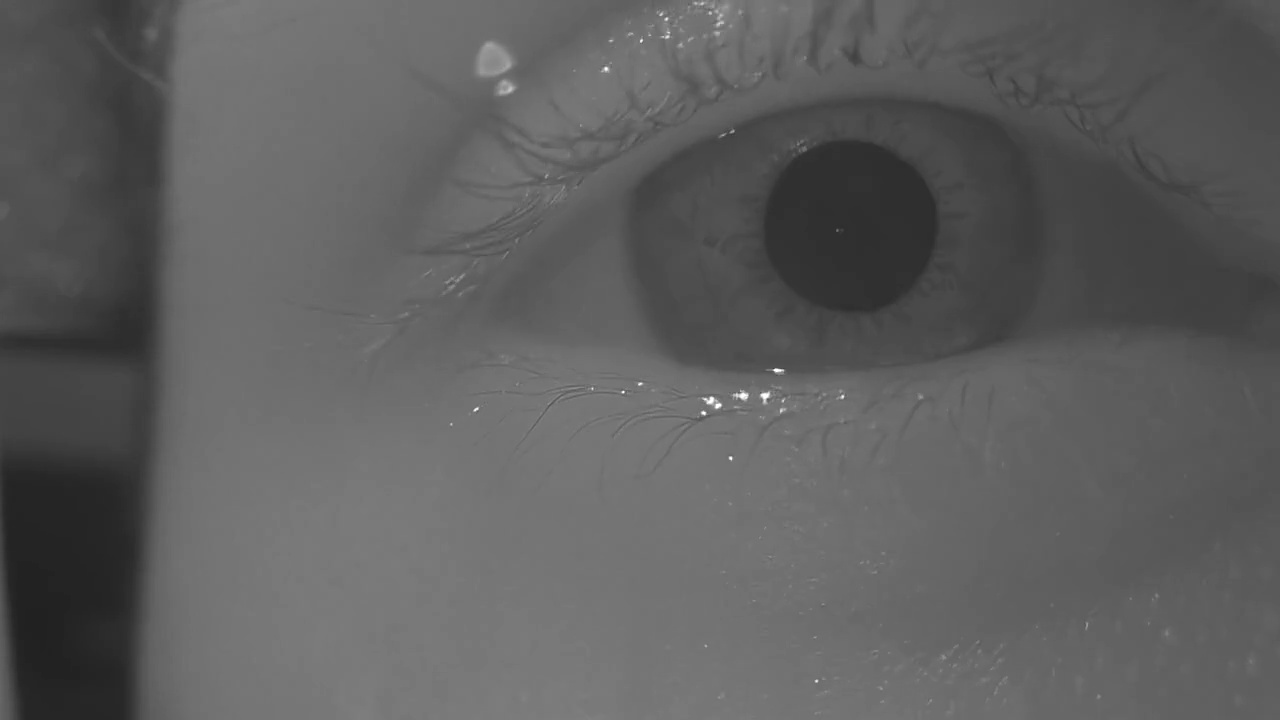pupil: (762, 142, 938, 311)
